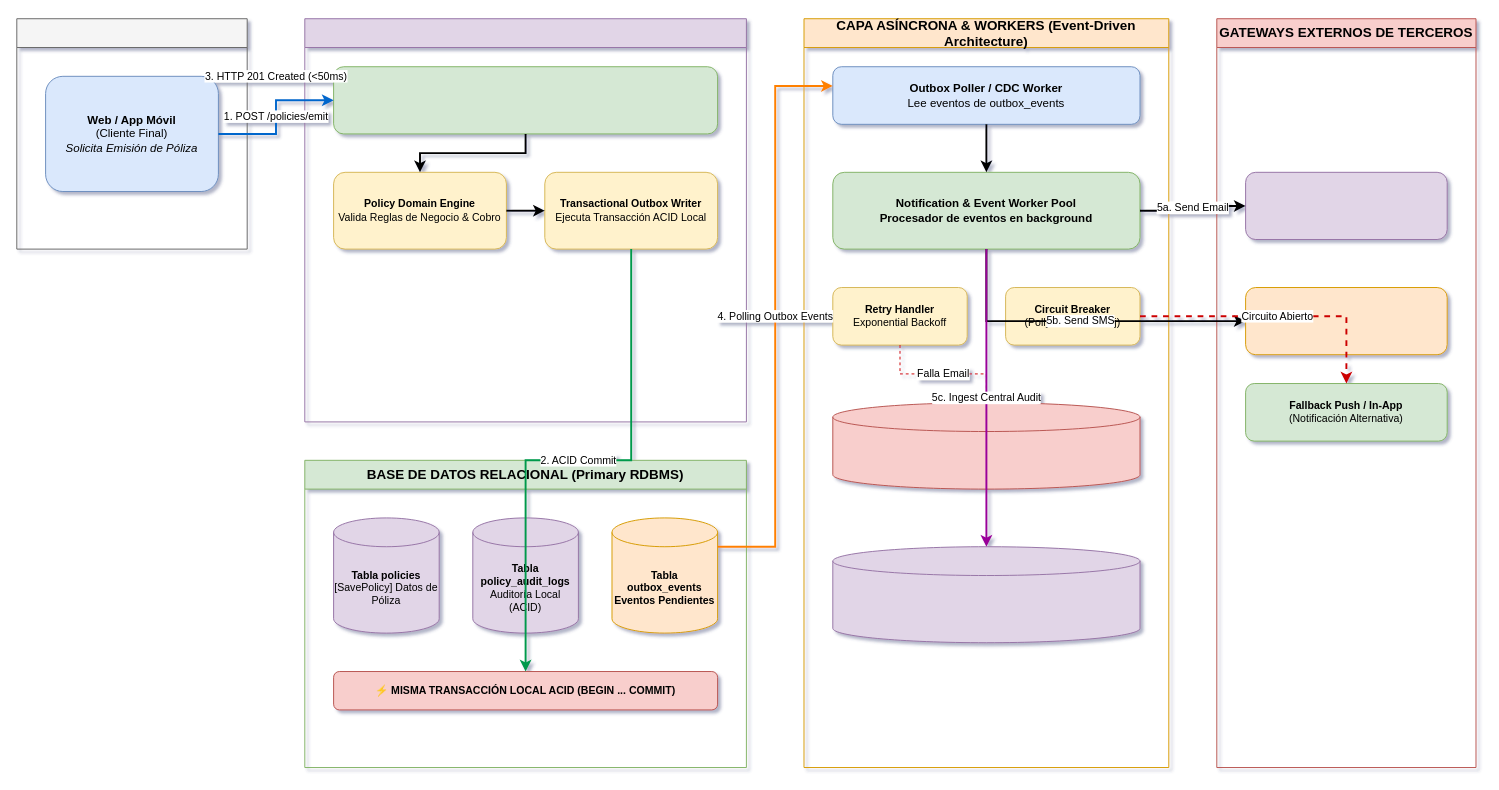
Some shapes in this 1499 by 790 pixel diagram are drawn without their labels. The box of each missing label's shape, as (x1, y1, x2, y2) in pixels:
CAPA DE CLIENTE (Presentation Layer): (16, 18, 247, 249)
CORE BACKEND (Transactional Outbox Pattern): (304, 18, 746, 422)
Dead Letter Queue (DLQ) Cola de eventos fallidos retenidos: (832, 402, 1140, 489)
ElasticSearch / OpenSearch Cluster Auditoría Centralizada Append-Only: (832, 546, 1140, 643)
Email Service (SMTP) SendEmail: (1245, 171, 1447, 240)
Policy API Controller (FastAPI / .NET Core) POST /api/v1/policies/emit: (333, 66, 718, 134)
SMS Provider Gateway SendSMS (Telefonía): (1245, 287, 1447, 355)
